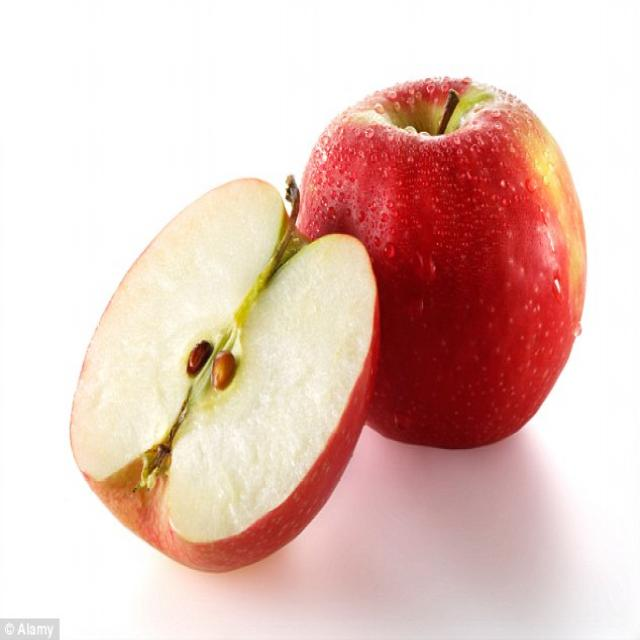apple: (66, 174, 378, 577), (300, 72, 590, 454)
